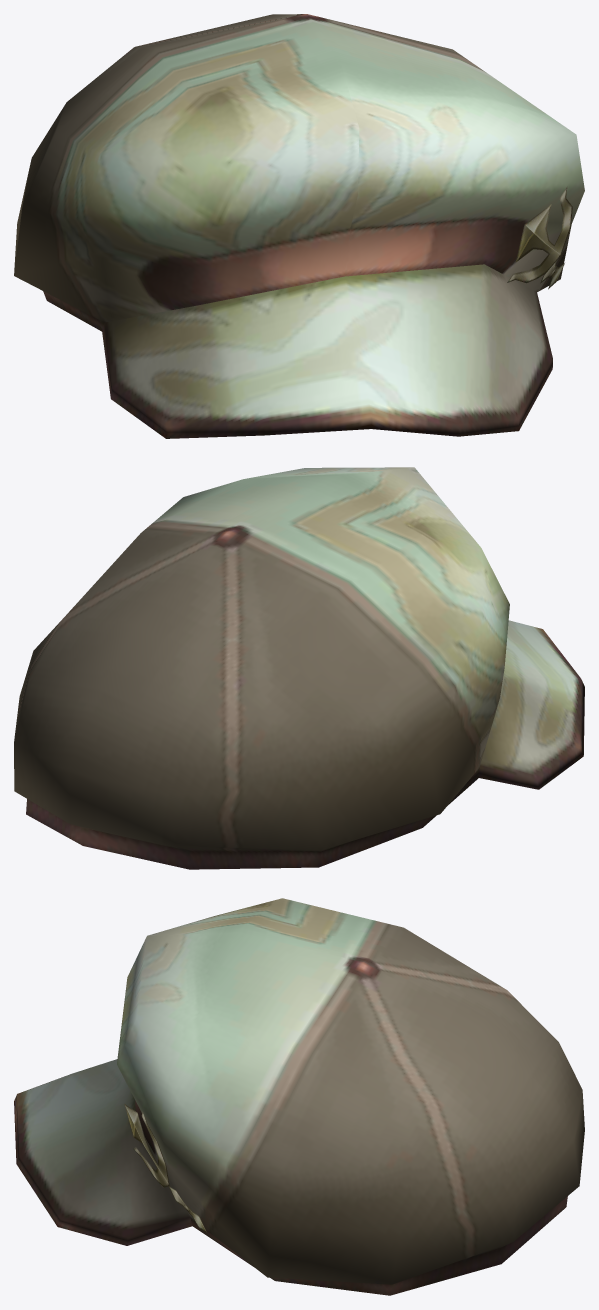
Rendered from helm0091.fbx.
The picture shows the model from 3 angles, top to bottom: view 1: azimuth 30°, elevation 25°; view 2: azimuth 150°, elevation 25°; view 3: azimuth 270°, elevation 25°; orthographic projection. The views are drawn at different scales.
Visible parts, largest first — view 1: helm0091_m; view 2: helm0091_m; view 3: helm0091_m.
Boxes of the visible parts, box(x1,y1,x2,y2) form: helm0091_m: box(14, 14, 584, 438); helm0091_m: box(14, 467, 584, 869); helm0091_m: box(14, 898, 584, 1295).
Size of the model in its own units: 0.3461 by 0.2202 by 0.4234.
